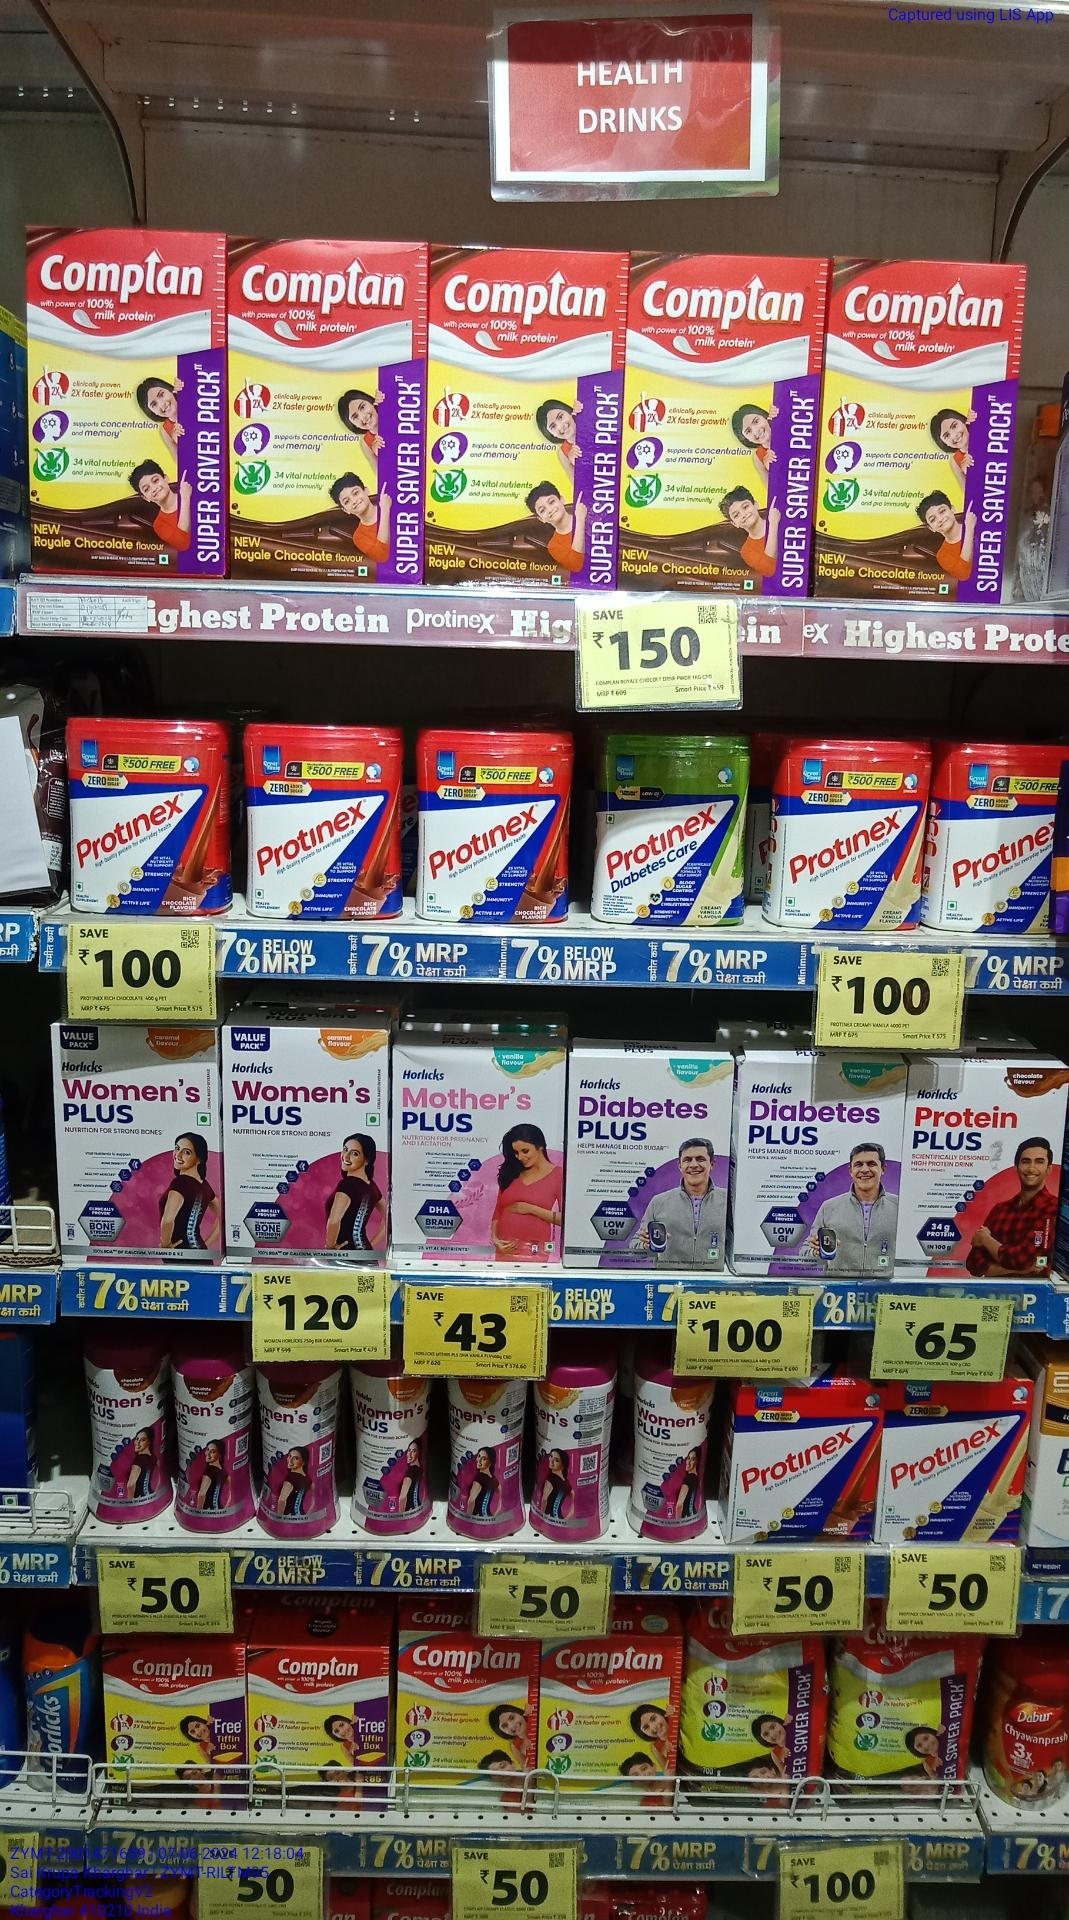PROTINEX_CHOCOLATE_400_G_JAR: (62, 729, 225, 924), (254, 737, 411, 916), (432, 730, 566, 907)
PROTINEX_VANILLA_400_G_JAR: (781, 747, 920, 919), (947, 753, 1040, 929)
